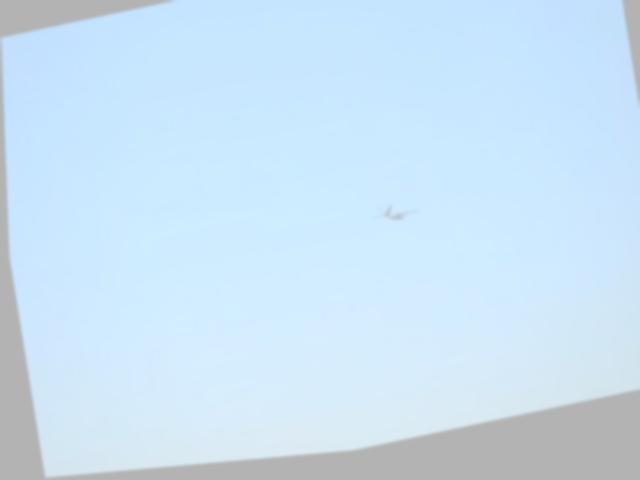uav: (361, 193, 429, 240)
